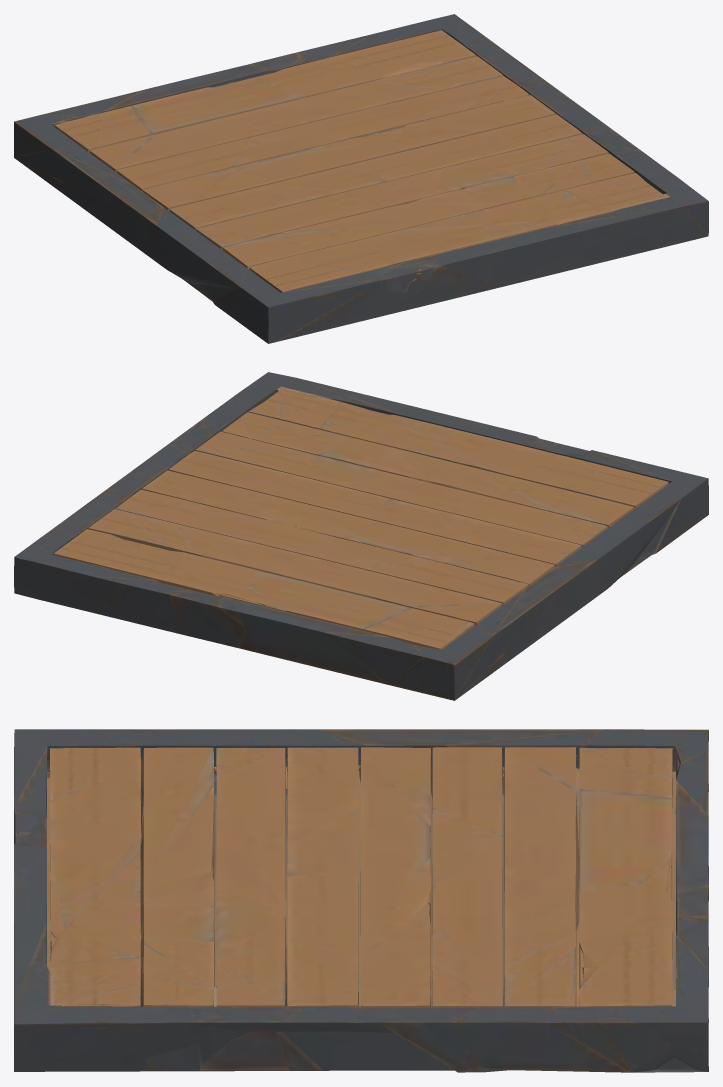
Rendered from timberDeck.glb.
The picture shows the model from 3 angles, top to bottom: view 1: azimuth 30°, elevation 25°; view 2: azimuth 150°, elevation 25°; view 3: azimuth 270°, elevation 25°; orthographic projection. The views are drawn at different scales.
Visible parts, largest first — view 1: Mesh_0; view 2: Mesh_0; view 3: Mesh_0.
Part boxes in pixels (x1,y1,x2,y2): Mesh_0: (14, 14, 708, 343); Mesh_0: (14, 372, 708, 700); Mesh_0: (14, 729, 708, 1072).
Size of the model in its own units: 1 by 0.08 by 1.
Materials: 1 (1 with a texture image).
